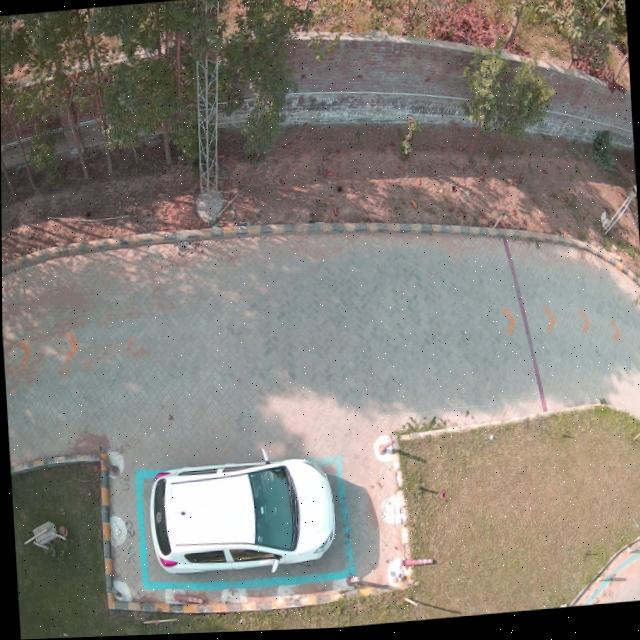car: (146, 455, 337, 579)
